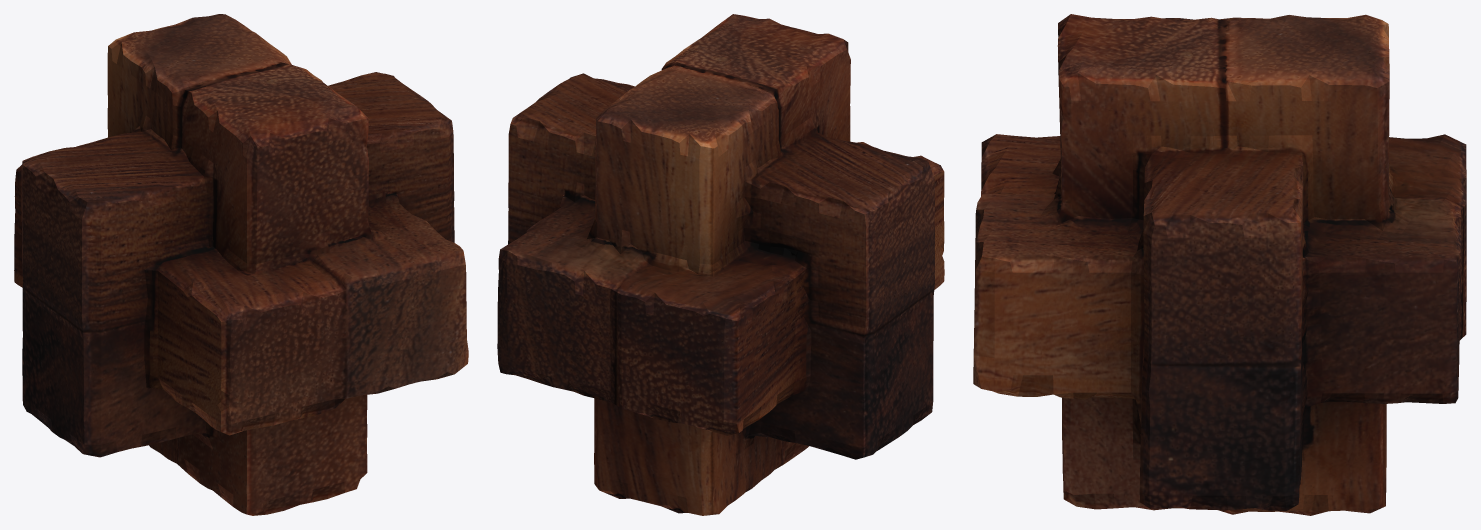
Rendered from wood_cube.glb.
3 views of the same model, side by side, from view 1: azimuth 30°, elevation 25°; view 2: azimuth 150°, elevation 25°; view 3: azimuth 270°, elevation 25° (orthographic). The views are drawn at different scales.
Parts seen in each view (by area): view 1: Cube_LP; view 2: Cube_LP; view 3: Cube_LP.
Boxes of the visible parts, x1,y1,x2,y2 form: Cube_LP: (14,14,468,515); Cube_LP: (497,14,944,515); Cube_LP: (973,14,1466,515).
Bounding box in the file's own units: 21.03 × 20.94 × 21.19.
Materials: 1 (1 with a texture image).
